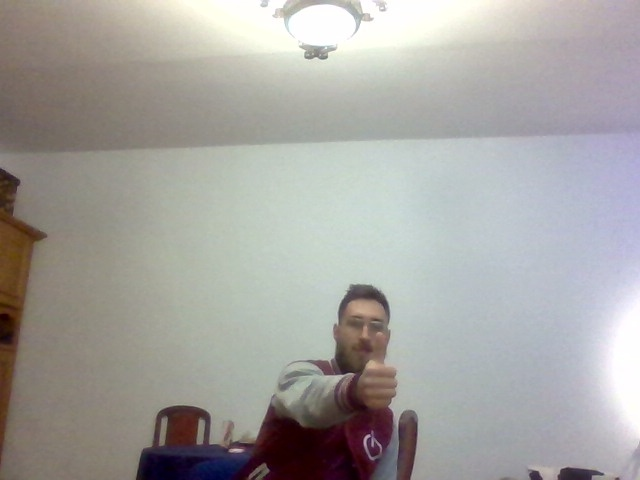ThumbsUp: (358, 332, 397, 409)
